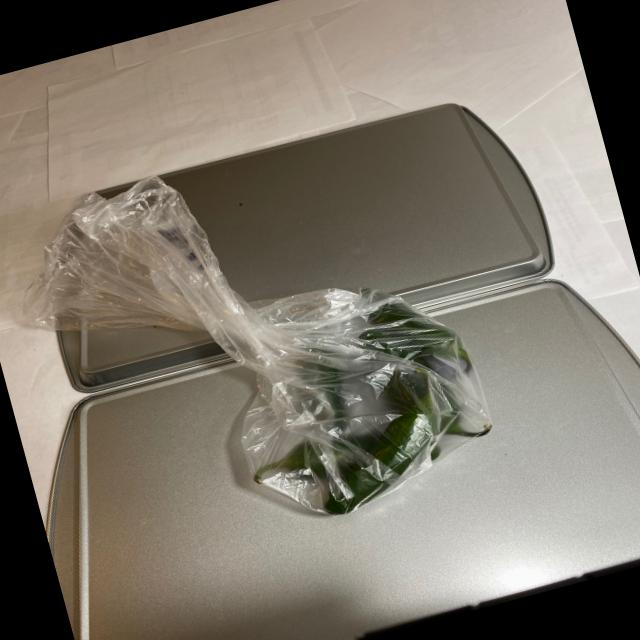chilli: (210, 272, 507, 534)
